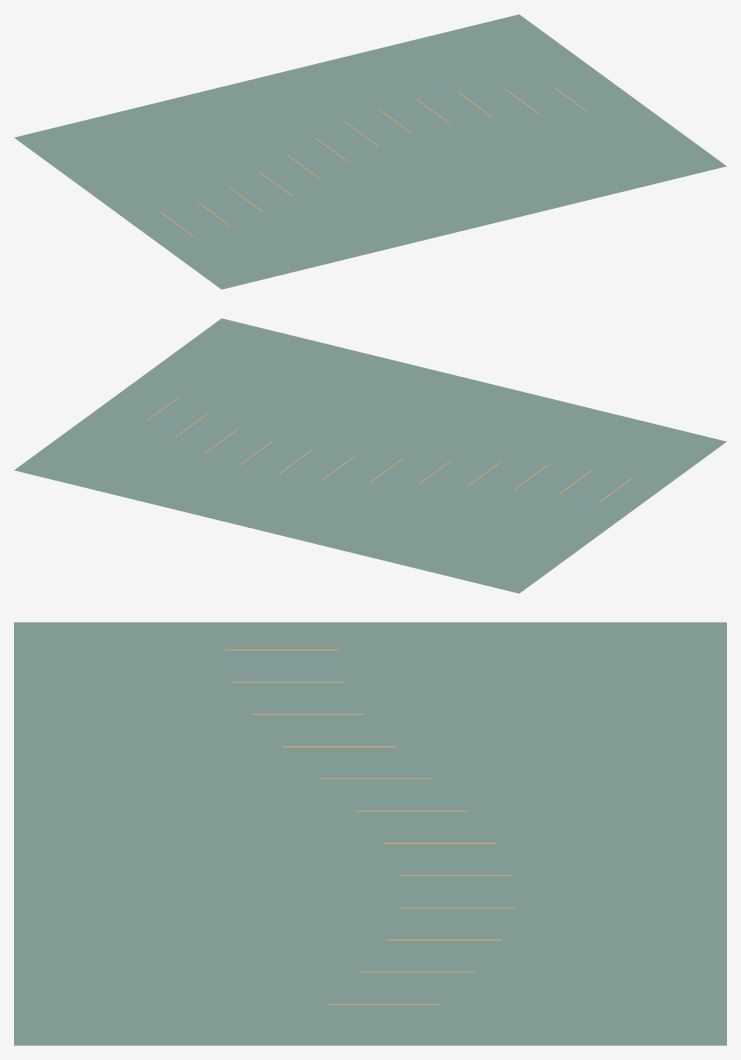
Rendered from 261_L119_L12_LayerReference.glb.
3 views of the same model, one above another, from view 1: azimuth 30°, elevation 25°; view 2: azimuth 150°, elevation 25°; view 3: azimuth 270°, elevation 25° (orthographic). The views are drawn at different scales.
Parts seen in each view (by area): view 1: 0000__PSMAT__dielectric; view 2: 0000__PSMAT__dielectric; view 3: 0000__PSMAT__dielectric.
Part boxes in pixels (left/top/right/bottom): 0000__PSMAT__dielectric: left=14, top=14, right=726, bottom=289; 0000__PSMAT__dielectric: left=14, top=318, right=726, bottom=593; 0000__PSMAT__dielectric: left=14, top=622, right=726, bottom=1045.
Size of the model in its own units: 0.486 by 0.000148 by 0.346.
